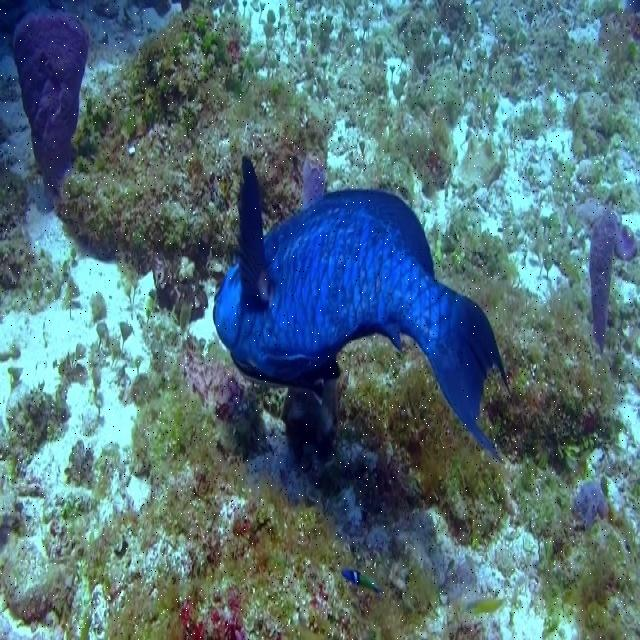aquatic plants: (344, 226, 639, 637), (82, 375, 438, 639), (57, 3, 336, 322)
fish: (213, 147, 511, 466)
